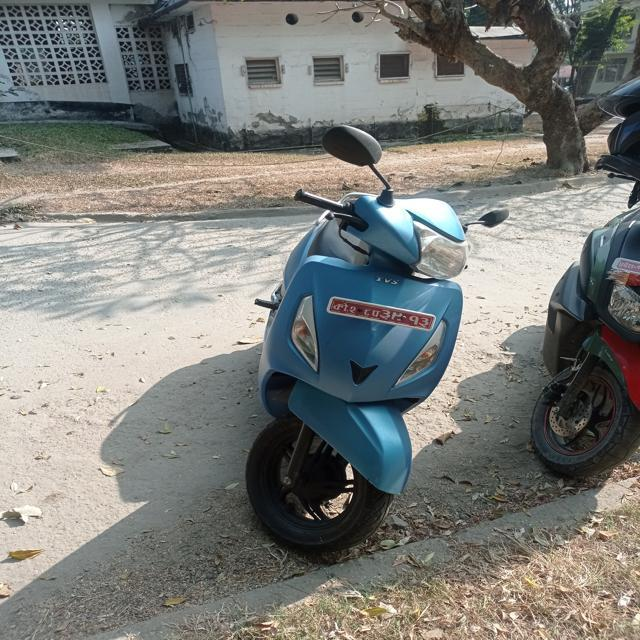license_plate: (306, 276, 479, 347)
